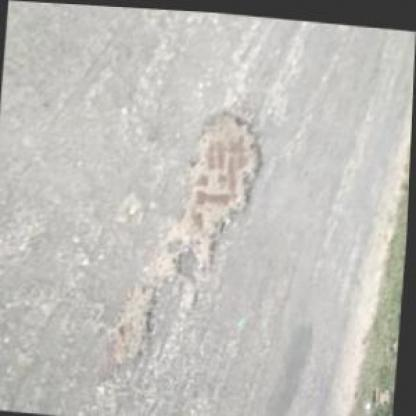pothole: (148, 99, 271, 288), (106, 276, 164, 370)
